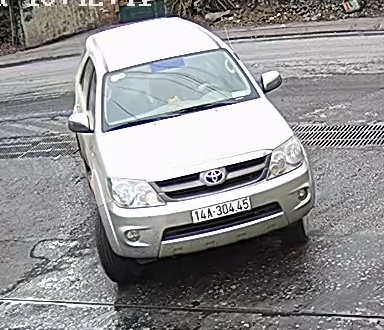vehicle plate: (185, 193, 254, 224)
